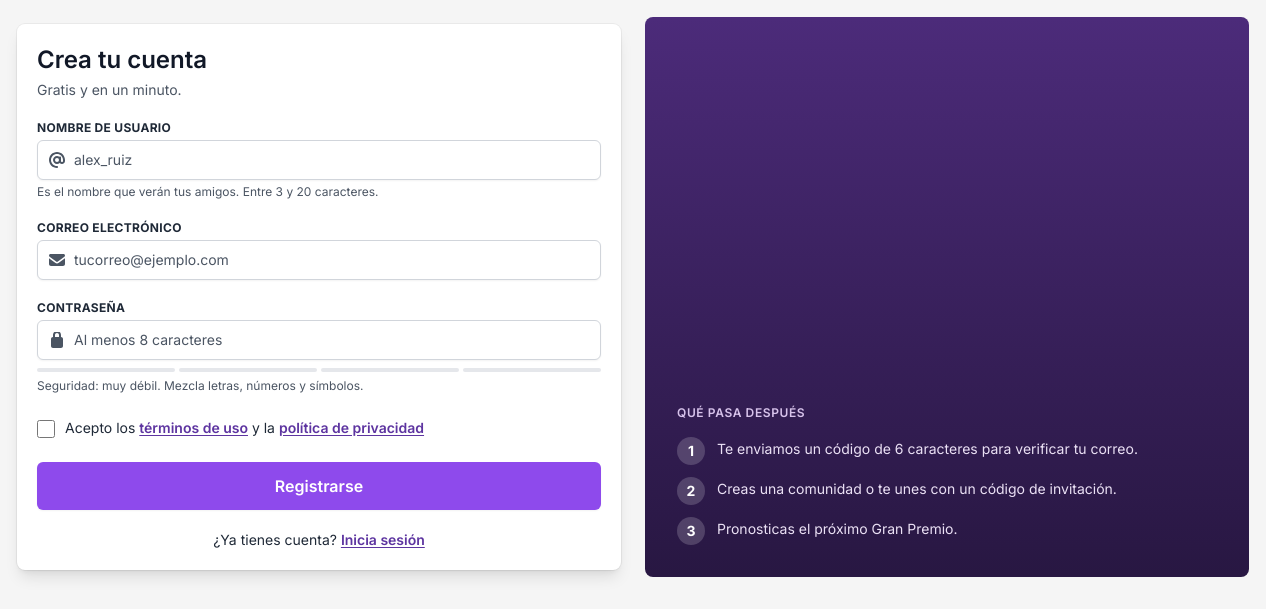
registro page › shows a duplicated username under its field
The width and height of the screenshot is (1266, 609).
In the field labelled "Nombre de usuario": (319, 160) [37,140,601,180], type "piloto1"
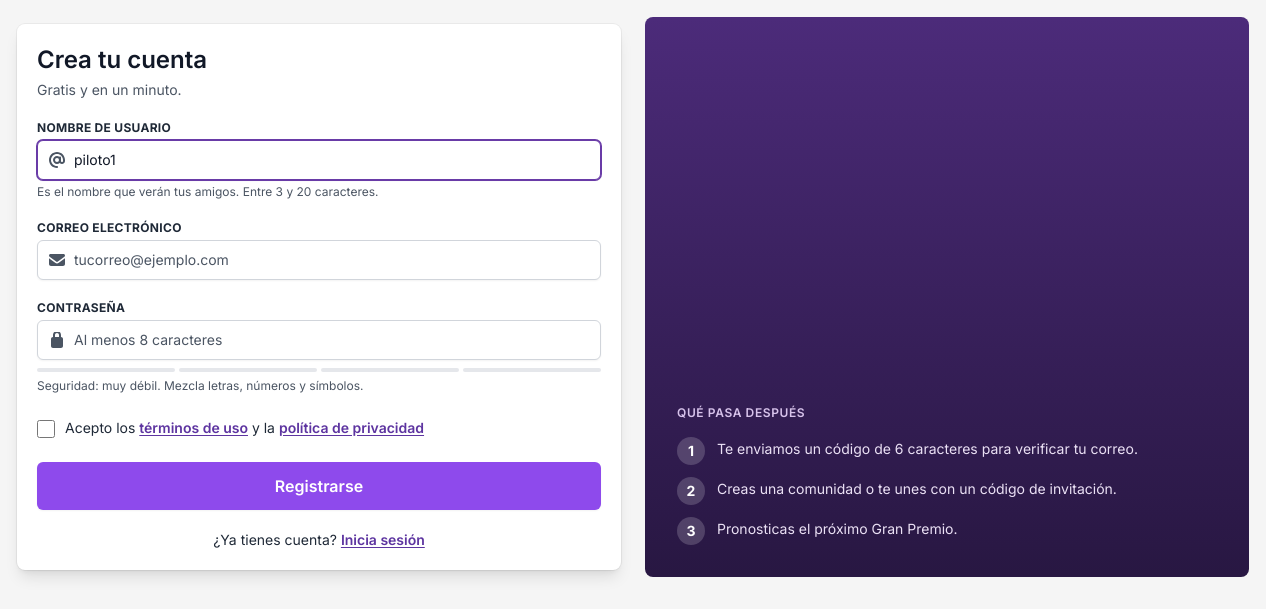
In the field labelled "Correo electrónico": (319, 260) [37,240,601,280], type "a@b.es"
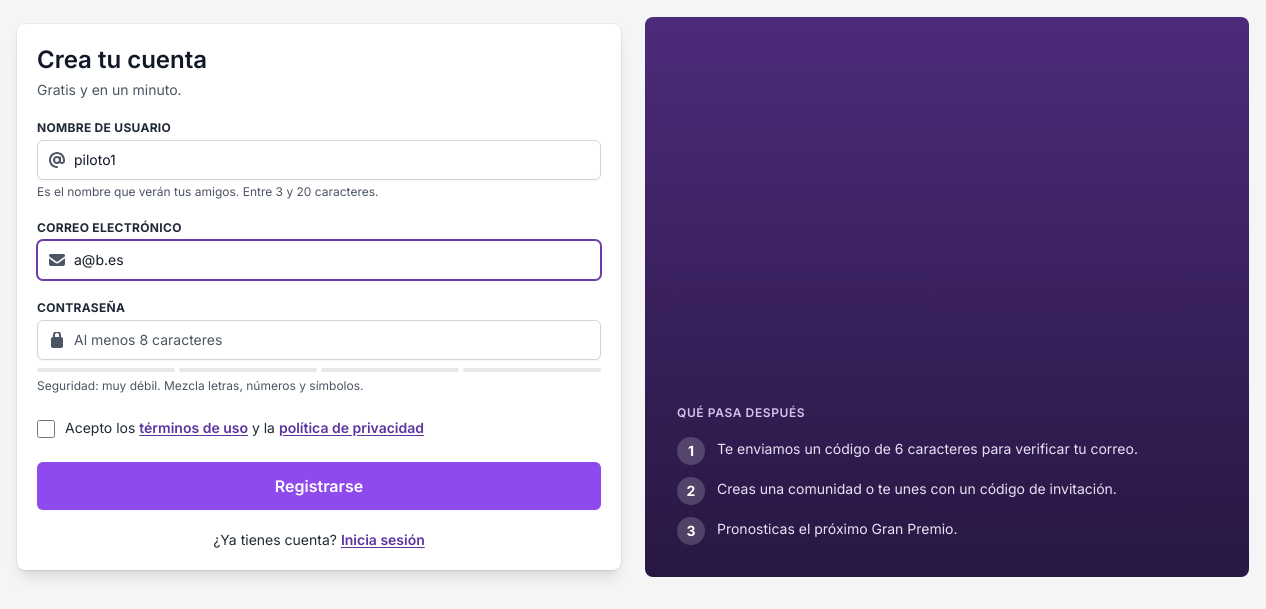
In the password field labelled "Contraseña": (319, 340) [37,320,601,360], type "Abcdefg1"
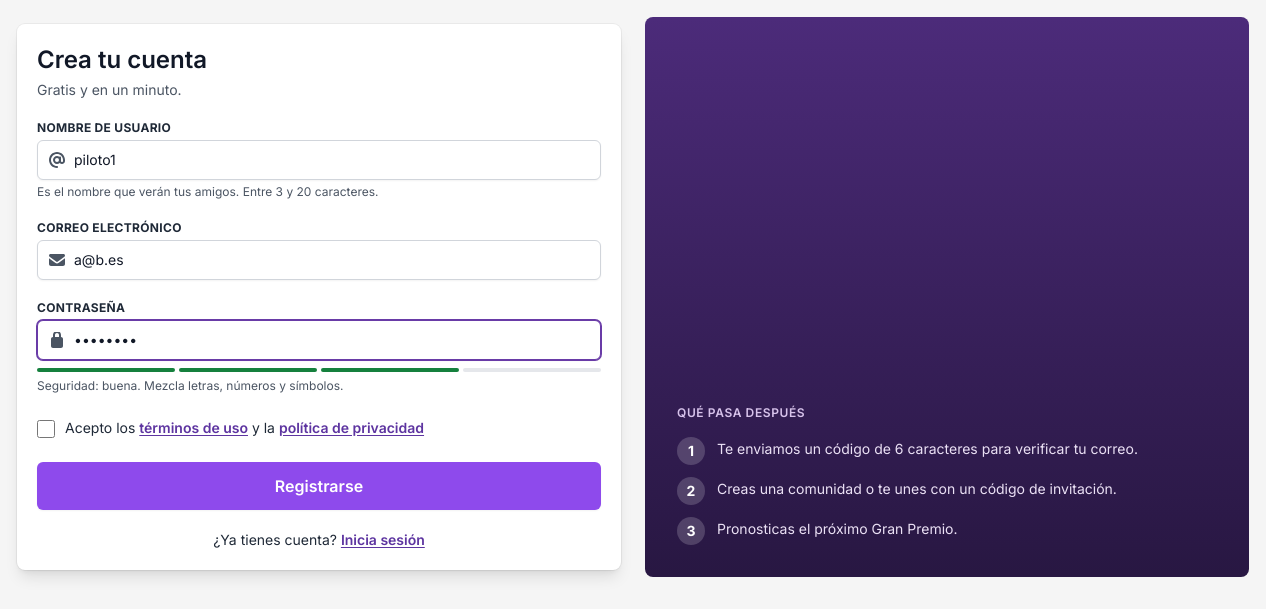
Click the checkbox: (46, 429) [37,420,55,438]
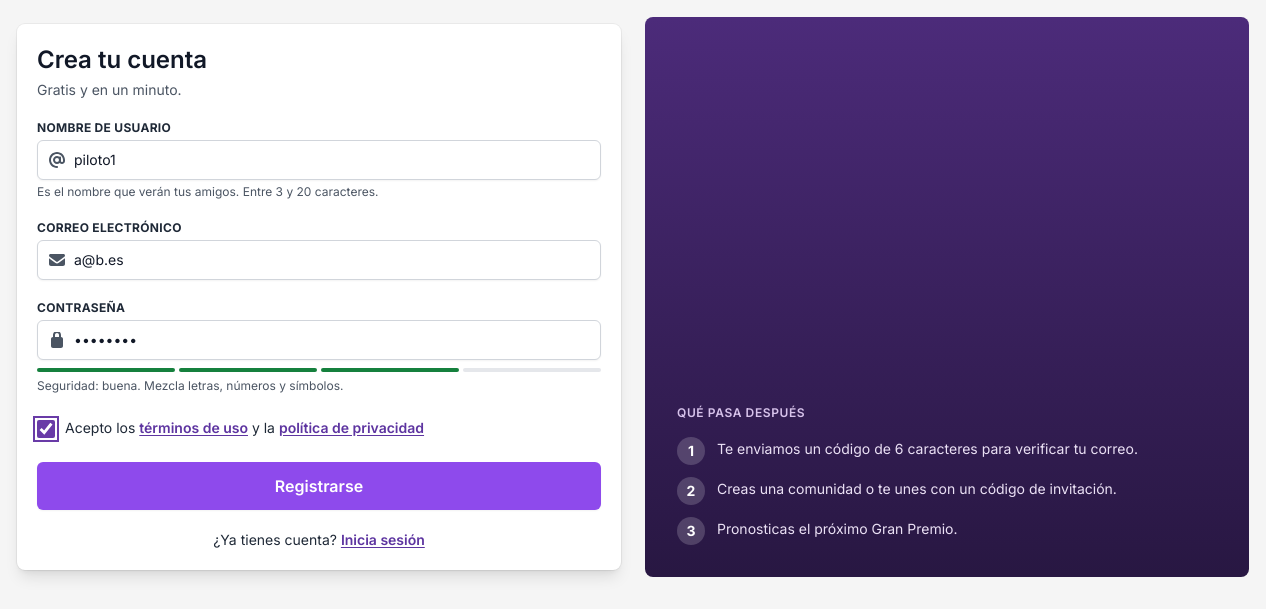
Click the button "Registrarse": (319, 486) [37,462,601,510]
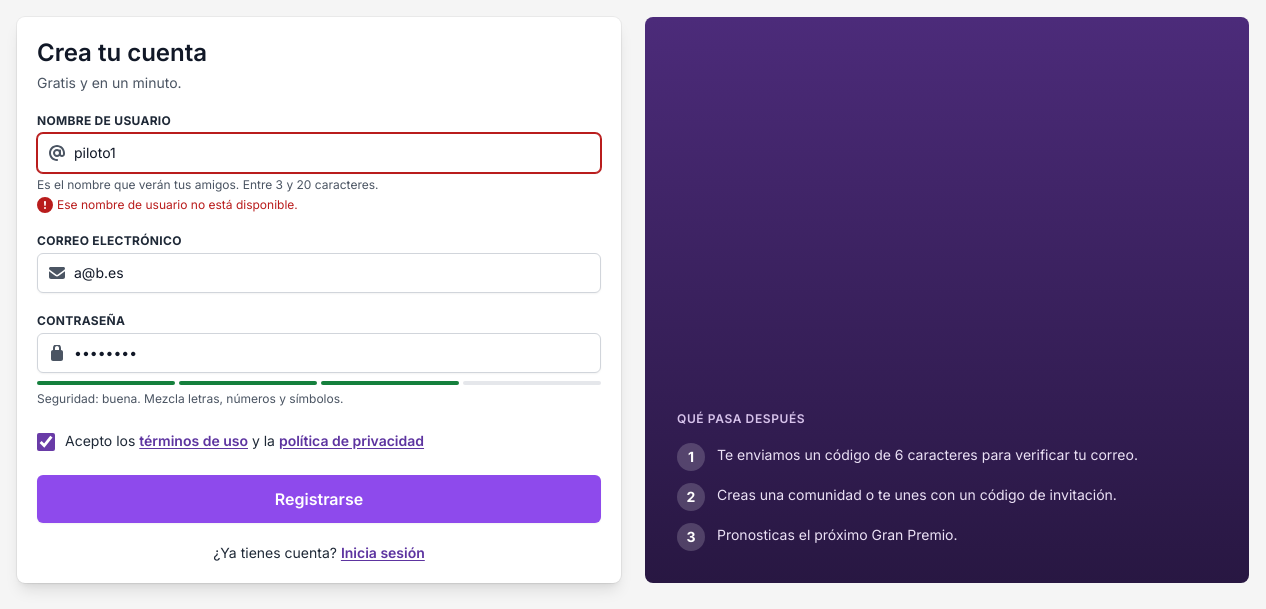
Check: the text "Ese nombre de usuario no está disponible." is shown, box [57,197,298,213]
